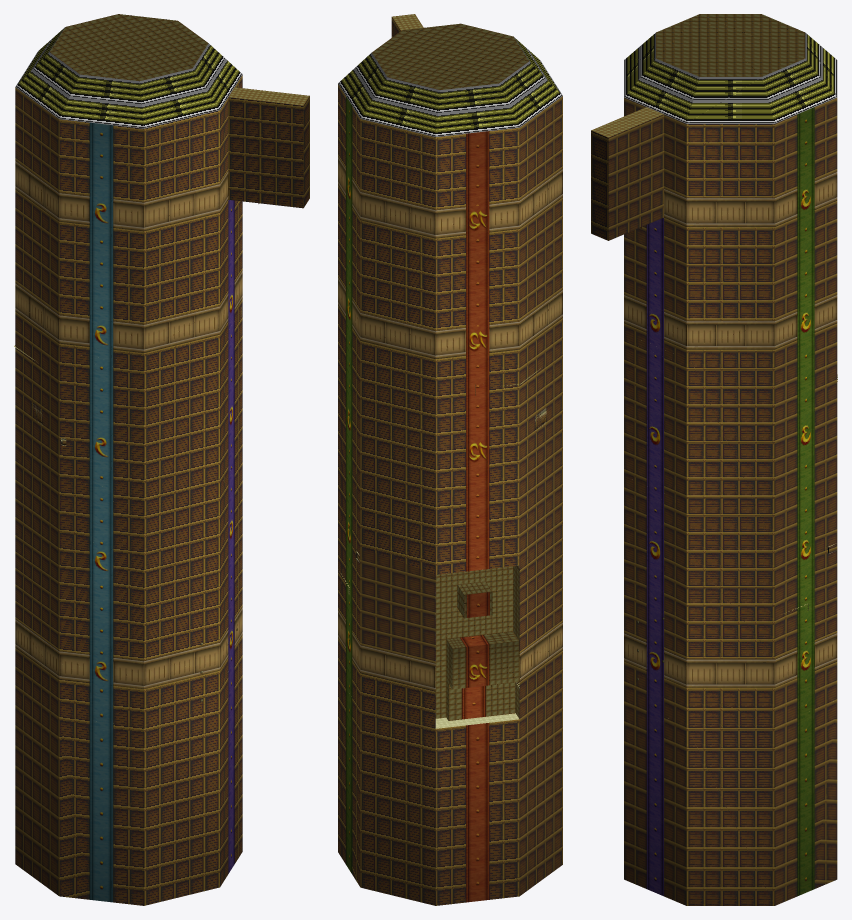
Rendered from clock_tower_all.glb.
3 views of the same model, side by side, from view 1: azimuth 30°, elevation 25°; view 2: azimuth 150°, elevation 25°; view 3: azimuth 270°, elevation 25° (orthographic).
Parts seen in each view (by area): view 1: clock_tower_all; view 2: clock_tower_all; view 3: clock_tower_all.
Part boxes in pixels (x1,y1,x2,y2): clock_tower_all: [14, 14, 309, 905]; clock_tower_all: [338, 14, 562, 905]; clock_tower_all: [591, 14, 837, 905].
Bounding box in the file's own units: 4.72 × 17.15 × 4.71.
25 materials, 24 textured.
